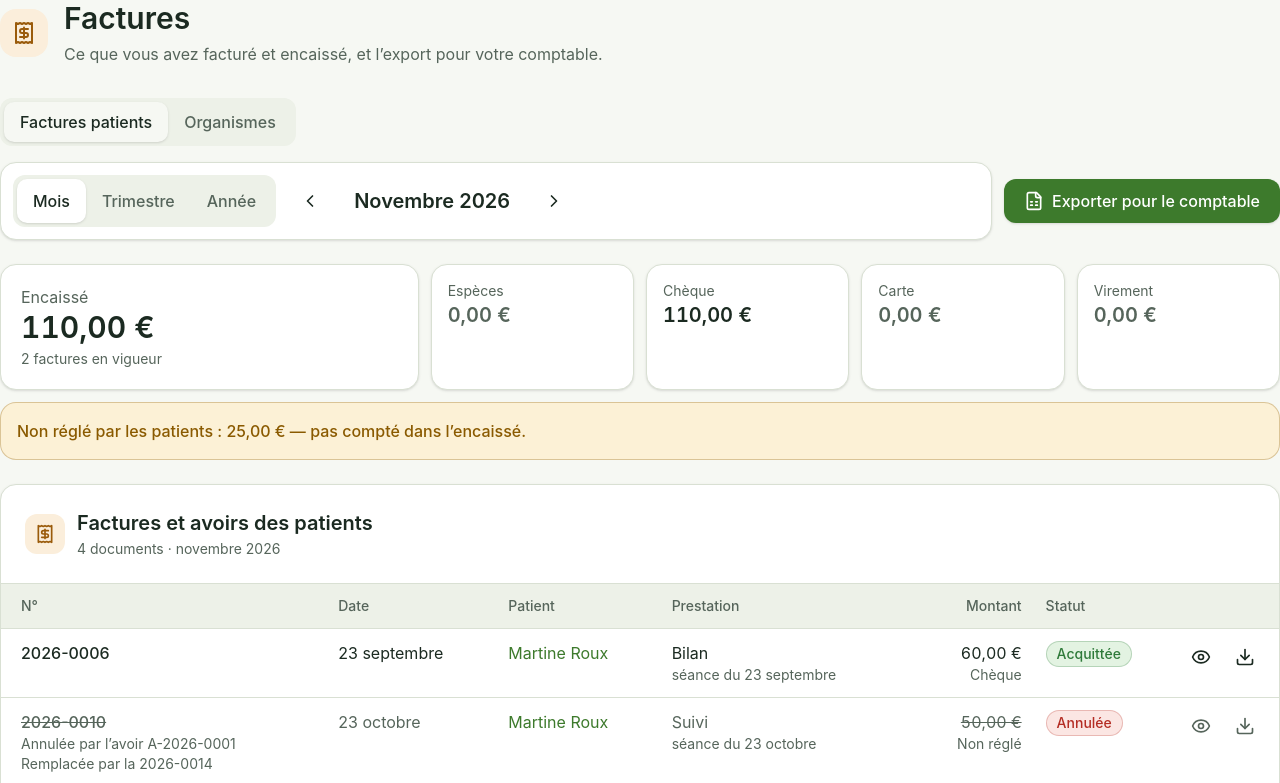
Scenario: InvoicesPage › moves to the previous period
The image size is (1280, 783).
expect the text "Encaissé" is shown: met, box [21,286,88,306]
Click the button "Année" at (232, 200), box [191,178,272,222]
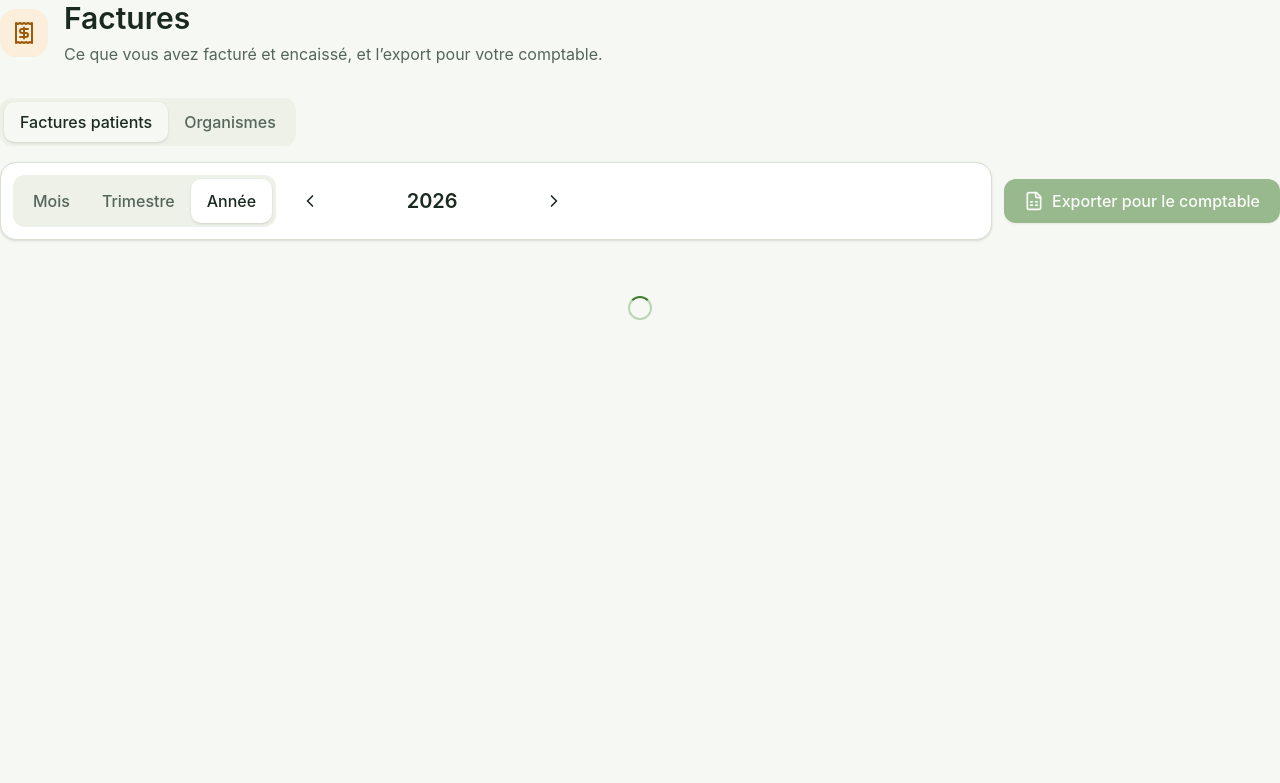
Click the button named "Période précédente" at (310, 200), box [288,178,332,222]
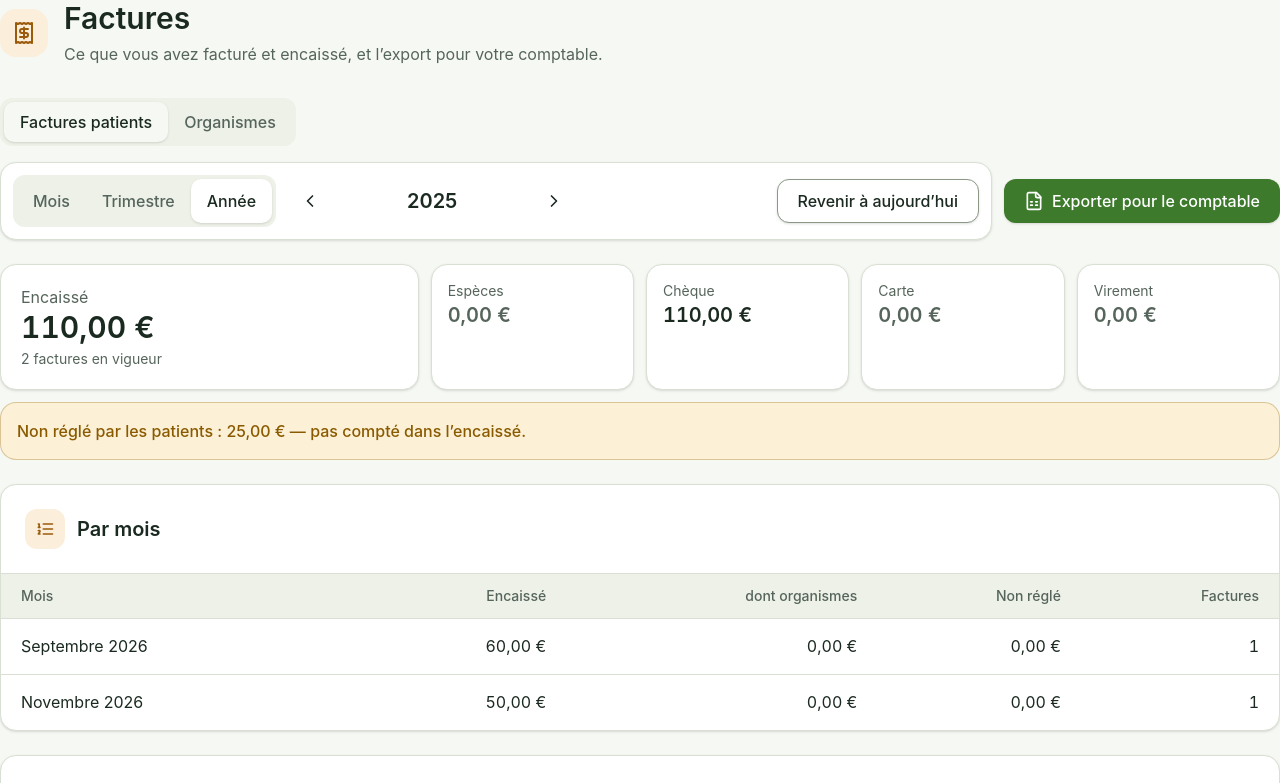
expect the button "Revenir à aujourd’hui" is shown: met, box [776,178,979,222]
